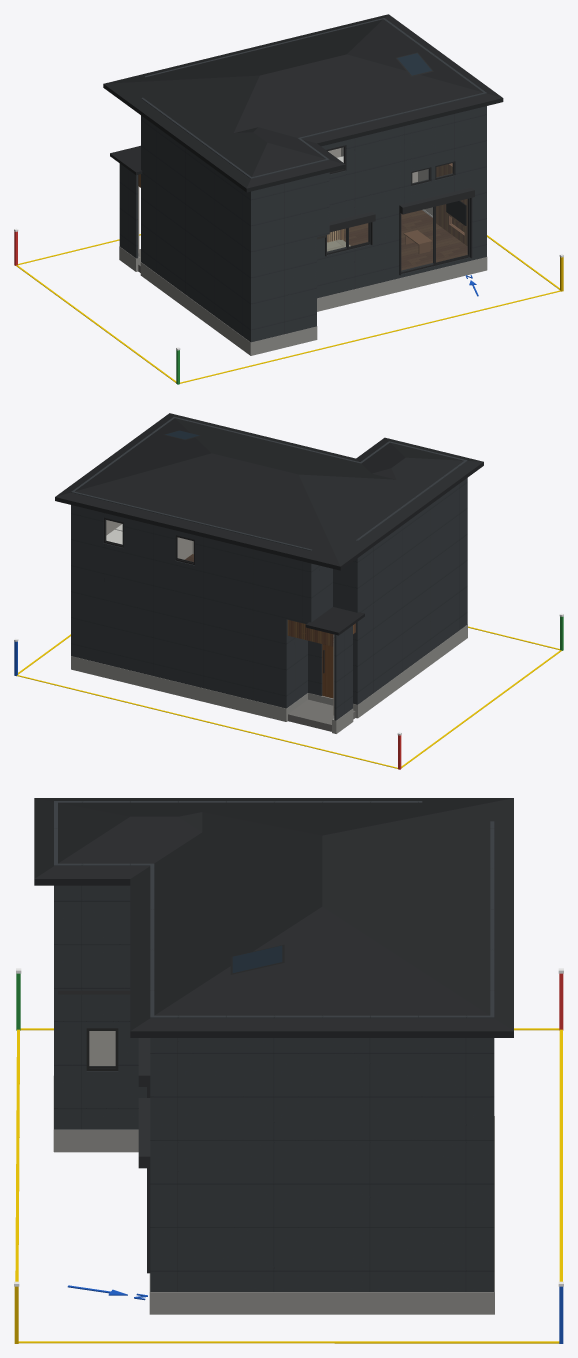
The picture shows the model from 3 angles, top to bottom: view 1: azimuth 30°, elevation 25°; view 2: azimuth 150°, elevation 25°; view 3: azimuth 270°, elevation 25°; orthographic projection. The views are drawn at different scales.
Parts seen in each view (by area): view 1: siding, roof, found, glass, floor, shutter, lotline, frame, accent, wall; view 2: siding, roof, found, lotline, tile, woodceil, glass, wall, door, frame; view 3: siding, roof, found, lotline, shutter, wall, glass, skylight.
Boxes of the visible parts, left/top/right/bottom form: siding: left=119, top=18, right=486, bottom=342; roof: left=103, top=14, right=503, bottom=192; found: left=119, top=246, right=487, bottom=355; glass: left=327, top=148, right=467, bottom=270; floor: left=327, top=210, right=467, bottom=270; shutter: left=325, top=187, right=474, bottom=275; lotline: left=16, top=234, right=560, bottom=383; frame: left=326, top=145, right=469, bottom=273; accent: left=436, top=163, right=467, bottom=245; wall: left=138, top=147, right=452, bottom=253; siding: left=71, top=417, right=467, bottom=720; roof: left=55, top=413, right=483, bottom=635; found: left=71, top=624, right=467, bottom=733; lotline: left=17, top=626, right=561, bottom=768; tile: left=288, top=699, right=355, bottom=731; woodceil: left=287, top=620, right=355, bottom=646; glass: left=106, top=520, right=193, bottom=561; wall: left=106, top=520, right=334, bottom=715; door: left=322, top=644, right=333, bottom=698; frame: left=103, top=517, right=324, bottom=673; siding: left=54, top=801, right=494, bottom=1291; roof: left=34, top=798, right=513, bottom=1037; found: left=53, top=1076, right=494, bottom=1314; lotline: left=15, top=1028, right=562, bottom=1343; shutter: left=138, top=1038, right=150, bottom=1273; wall: left=89, top=1031, right=115, bottom=1065; glass: left=90, top=1031, right=114, bottom=1065; skylight: left=232, top=945, right=282, bottom=972.
Size of the model in its own units: 14.14 by 7.01 by 10.42.
Materials: 41 (6 with a texture image).
